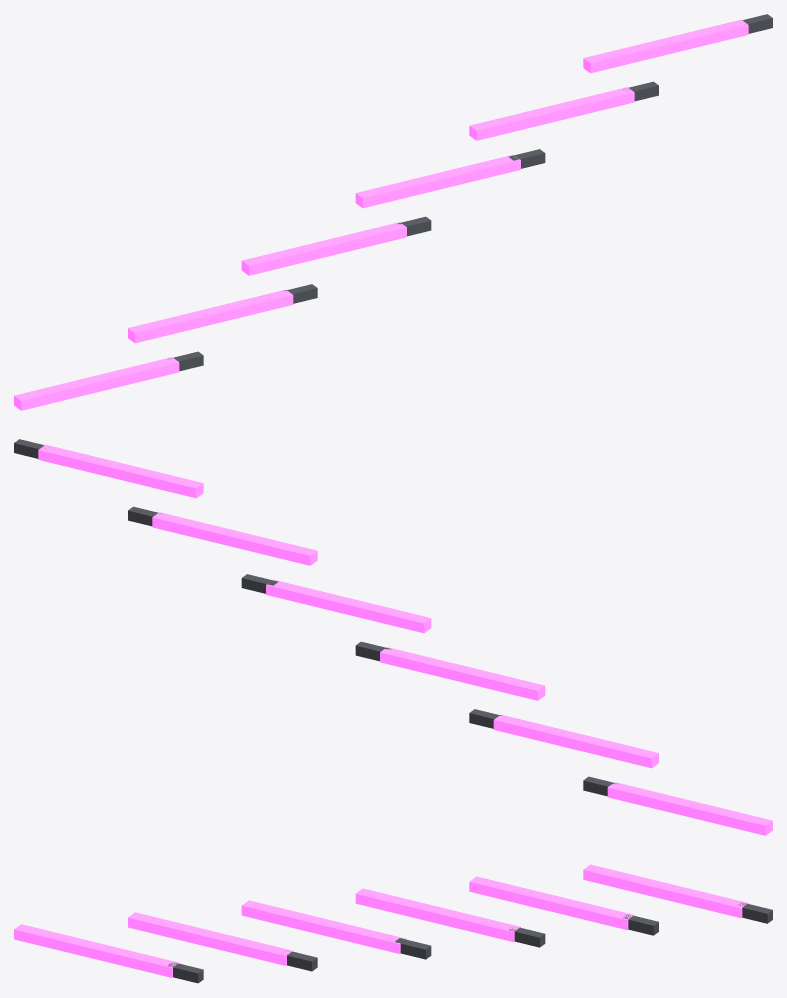
The model's file is light_strip_wall_stairs.glb.
The picture shows the model from 3 angles, top to bottom: view 1: azimuth 30°, elevation 25°; view 2: azimuth 150°, elevation 25°; view 3: azimuth 330°, elevation 25°; orthographic projection.
Visible parts, largest first — view 1: GD_light_strip_wall_stairs__m0, GD_light_strip_wall_stairs__m1; view 2: GD_light_strip_wall_stairs__m0, GD_light_strip_wall_stairs__m1; view 3: GD_light_strip_wall_stairs__m0, GD_light_strip_wall_stairs__m1.
Part boxes in pixels (<box>): GD_light_strip_wall_stairs__m0: <box>14,19,748,410</box>; GD_light_strip_wall_stairs__m1: <box>167,14,772,371</box>; GD_light_strip_wall_stairs__m0: <box>38,444,772,835</box>; GD_light_strip_wall_stairs__m1: <box>14,439,619,796</box>; GD_light_strip_wall_stairs__m0: <box>14,864,748,977</box>; GD_light_strip_wall_stairs__m1: <box>167,902,772,983</box>.
Bounding box in the file's own units: 2.38 × 0.63 × 0.04.
